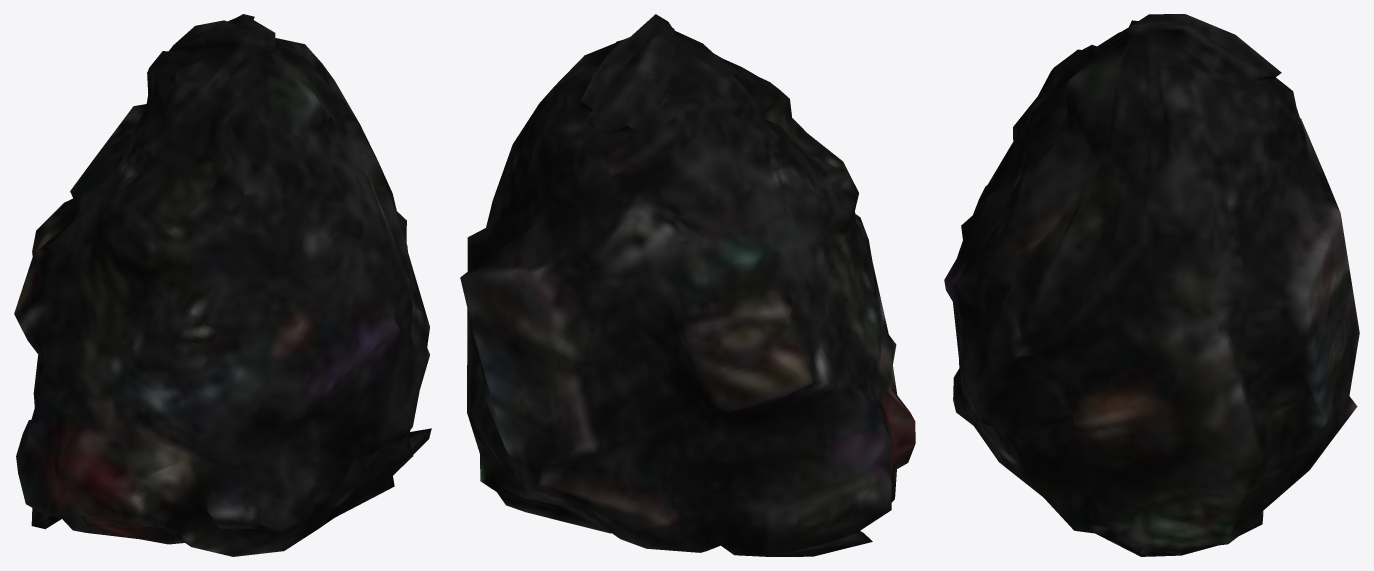
File: trashbag.glb
3 renders of one model, left to right at view 1: azimuth 30°, elevation 25°; view 2: azimuth 150°, elevation 25°; view 3: azimuth 270°, elevation 25°, orthographic. The views are drawn at different scales.
Parts seen in each view (by area): view 1: trashbag; view 2: trashbag; view 3: trashbag.
Part boxes in pixels (x1,y1,x2,y2): trashbag: (14, 14, 431, 556); trashbag: (460, 14, 915, 556); trashbag: (944, 14, 1359, 556).
Size of the model in its own units: 0.5281 by 0.5684 by 0.4629.
1 material, 1 textured.
